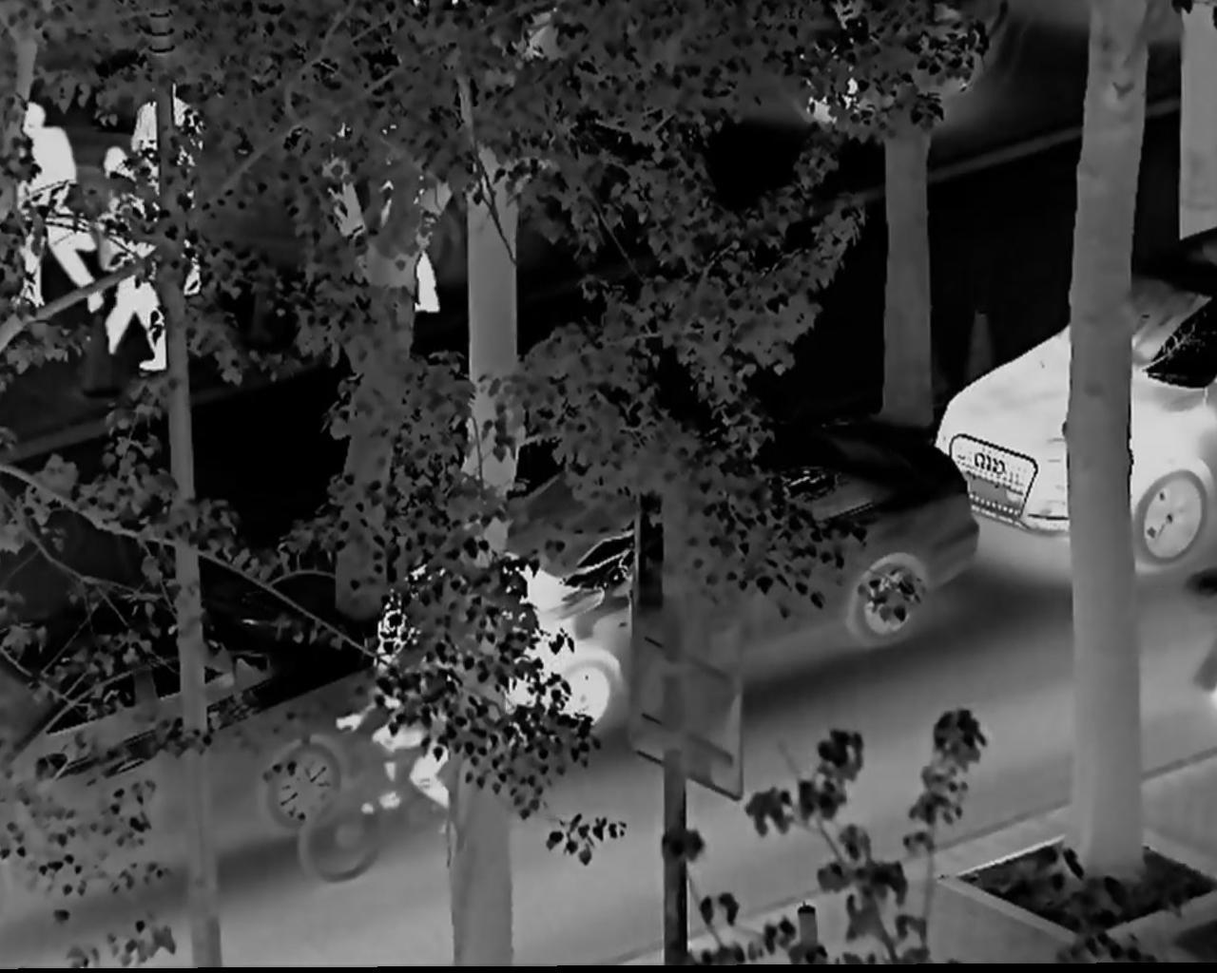person: (338, 600, 461, 818), (11, 95, 106, 324), (121, 76, 213, 296), (96, 151, 184, 376)
